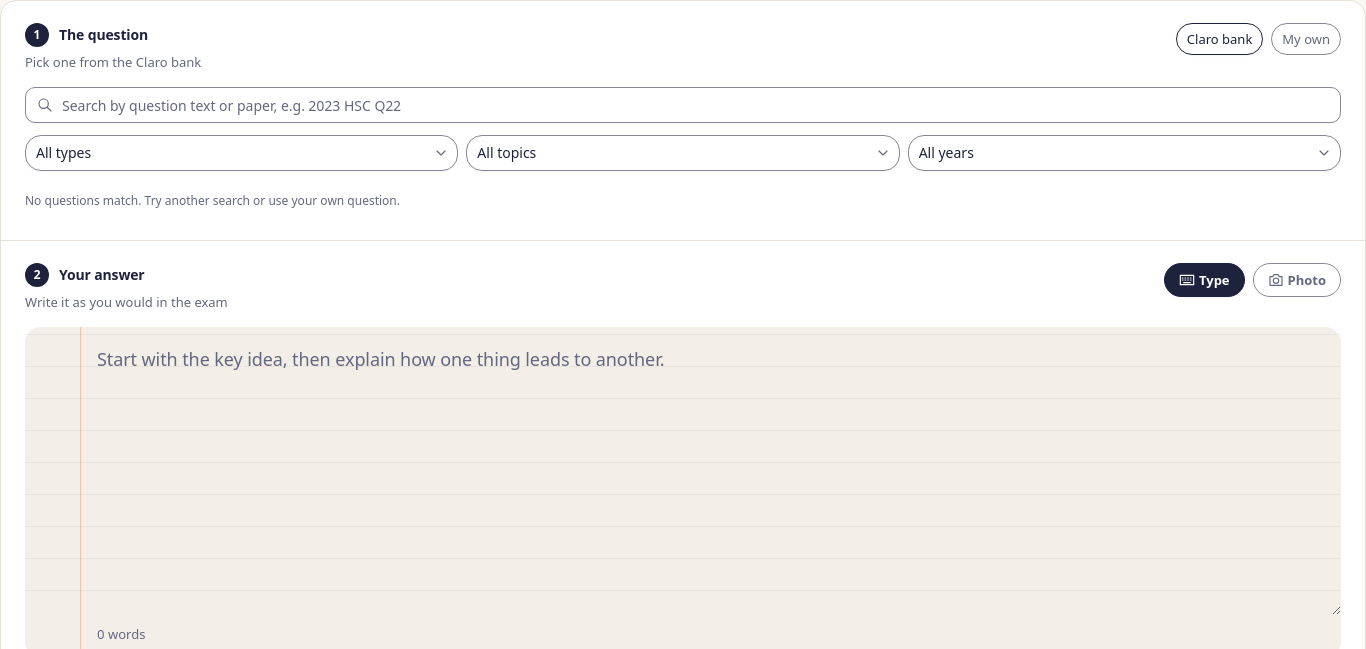
it: keeps verb detection on and the checks card in flow
Click the button with aria-label "My own question".
click(1306, 39)  # box [1271,23,1341,55]
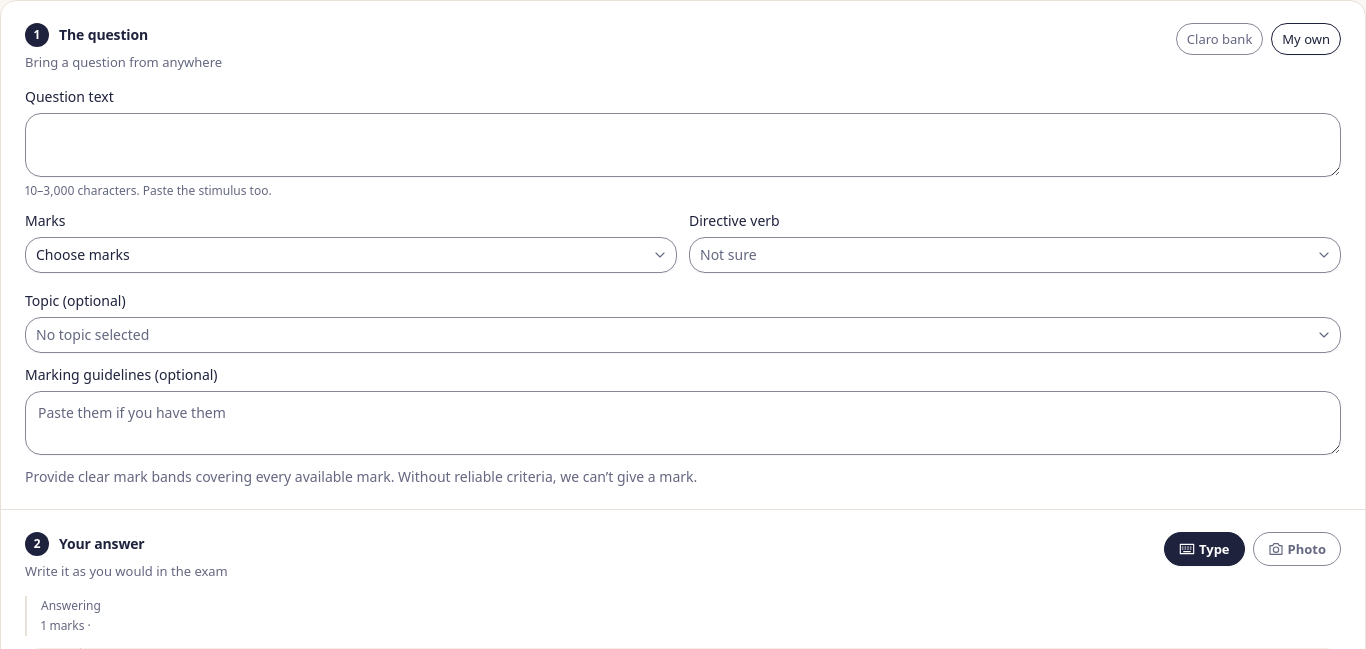
Type "Explain inflation." into the text box labelled "Question text 10–3,000 characters. Paste the stimulus too.".
click(683, 145); type("Explain inflation.")  # box [25,113,1341,177]
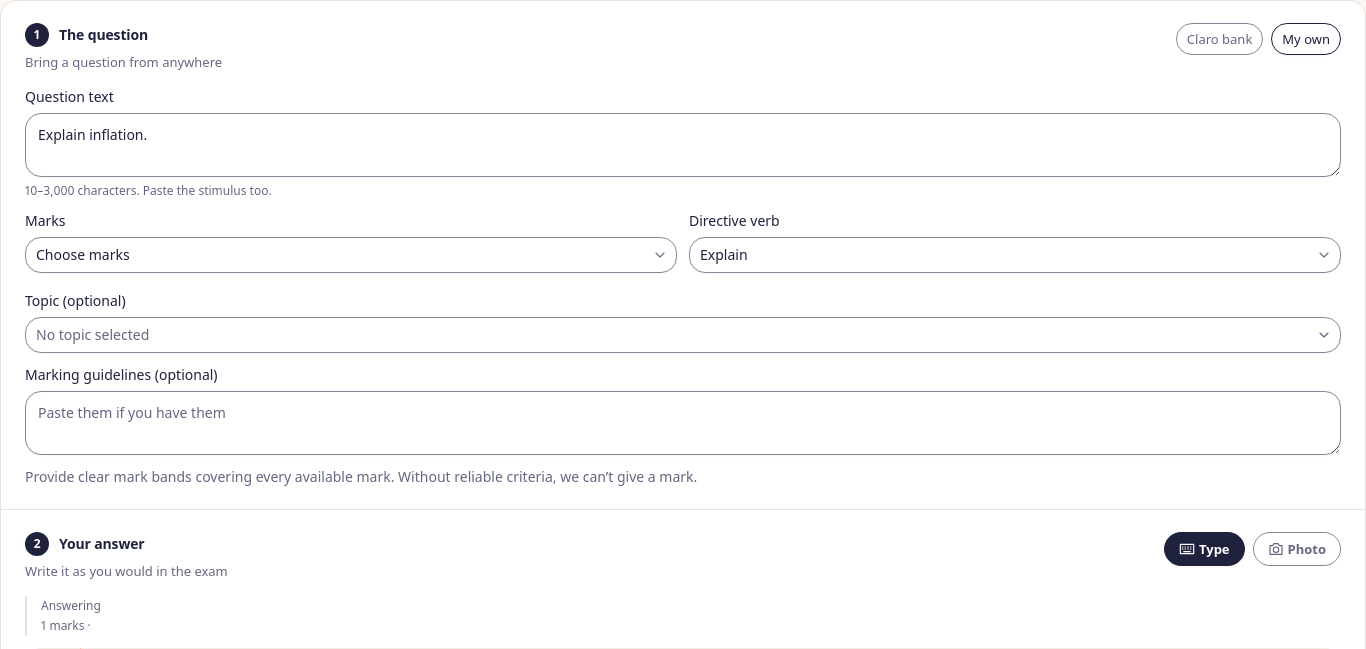
Replace the text in the text box labelled "Question text 10–3,000 characters. Paste the stimulus too." with "Assess monetary policy." at (683, 145), box [25,113,1341,177]
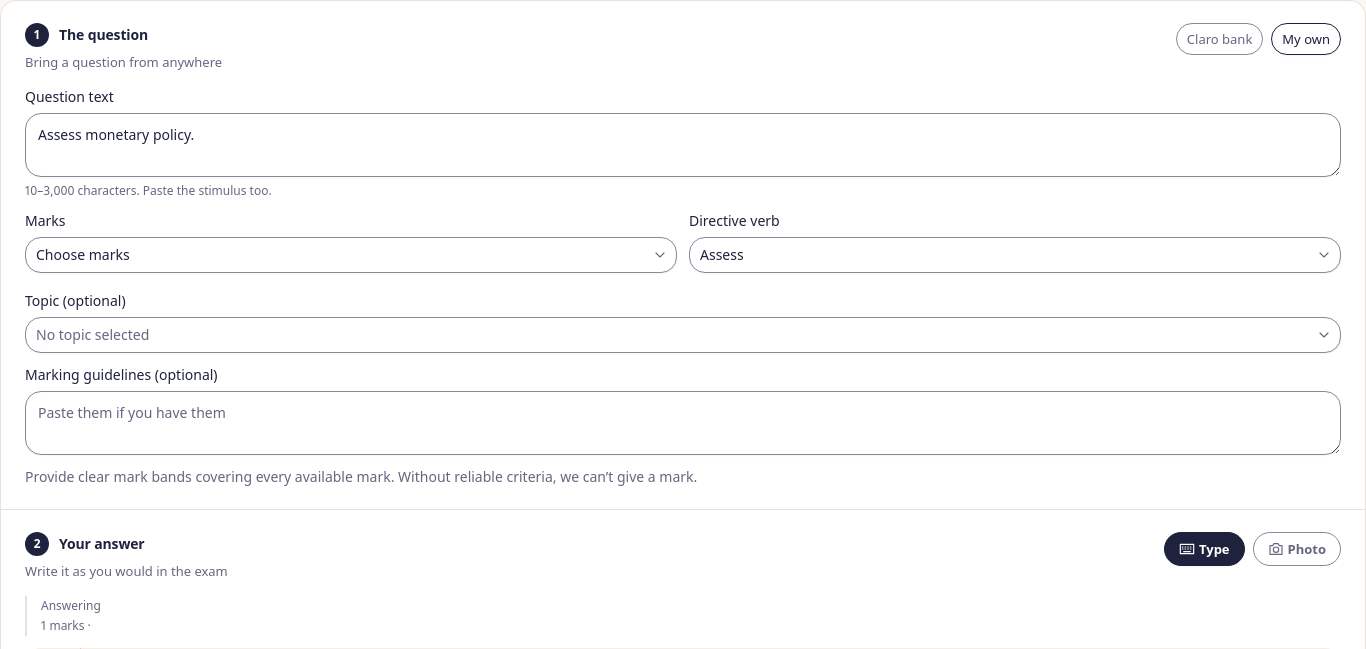
Now the dropdown named "Directive verb" reads "Assess", box [689,237,1341,273]
